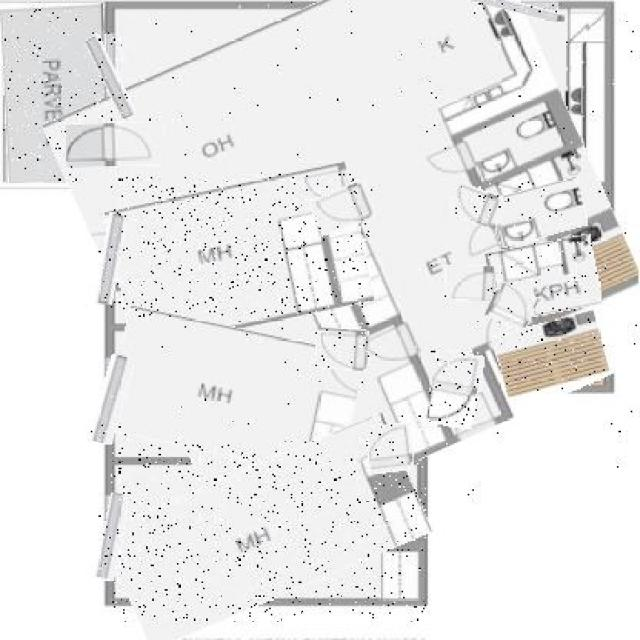door: (66, 123, 165, 166), (431, 352, 483, 430), (312, 186, 374, 232), (368, 424, 414, 474), (316, 328, 370, 370), (488, 286, 537, 329), (452, 186, 505, 225), (444, 266, 496, 300)
window: (94, 356, 129, 444), (94, 32, 128, 120), (99, 494, 126, 580), (98, 213, 122, 304), (450, 0, 564, 15)
zone: (78, 0, 637, 503), (109, 440, 426, 622), (111, 174, 369, 340), (111, 317, 360, 468), (3, 6, 109, 182), (488, 238, 600, 318), (496, 315, 606, 391), (489, 182, 586, 243)
